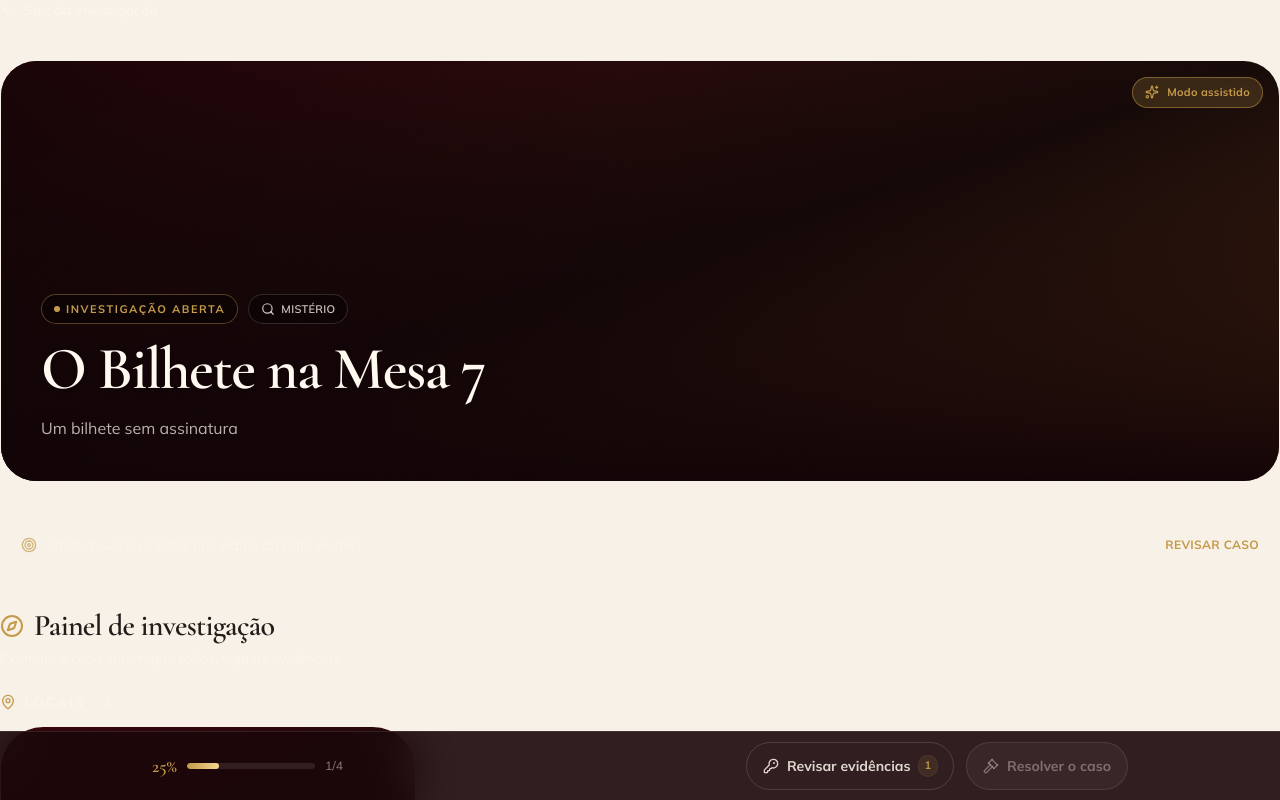
SessionHub › renders the title and shows opening and objective in review modal
Check: the heading "O Bilhete na Mesa 7" is shown, box [41,333,485,405]
Check: the text "Descobrir quem deixou o bilhete." is not shown
What coordinates should you click on to do the following:
click the text "Revisar caso"
I would click on:
 (1212, 545)
Its box is [1165,537,1259,553].
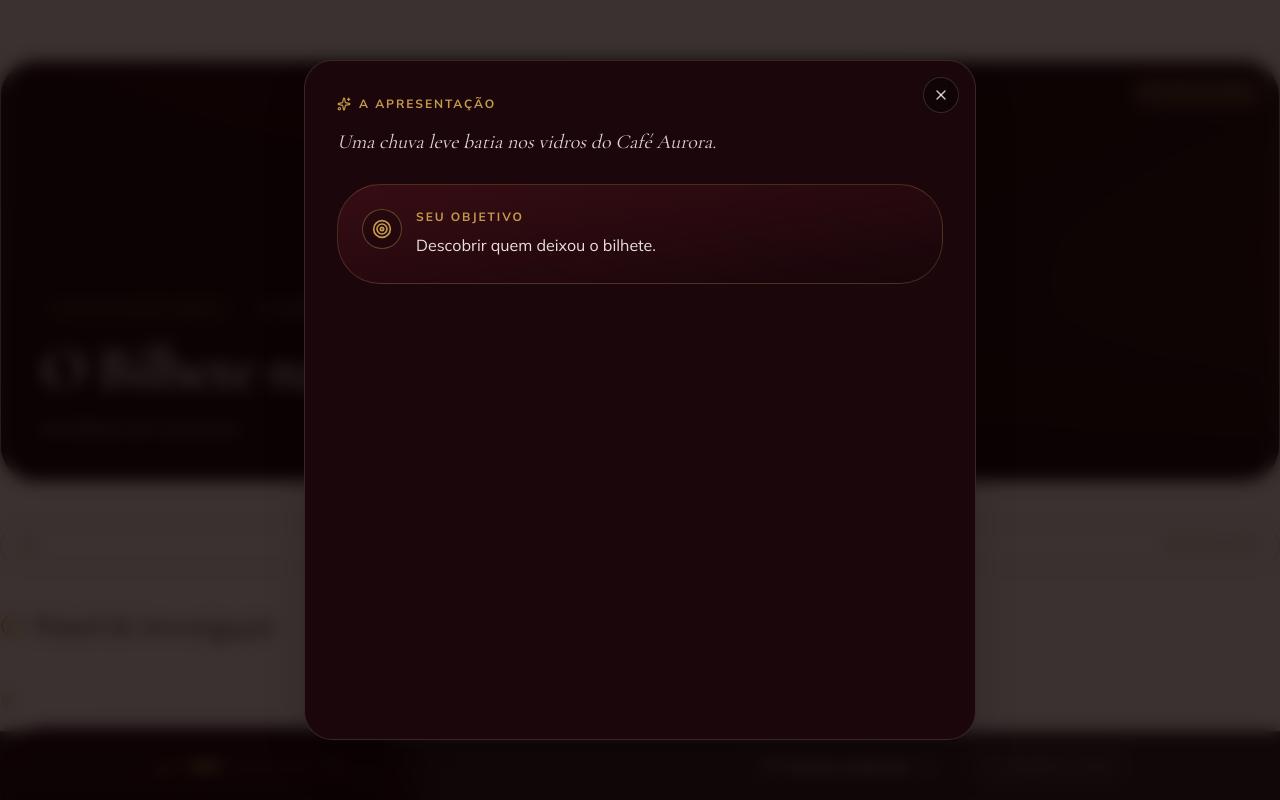
Check: the text "Uma chuva leve batia nos vidros do Café Aurora." below "Um bilhete sem assinatura" is shown, box [49,536,364,554]
Check: the text "Descobrir quem deixou o bilhete." is shown, box [416,231,656,259]
